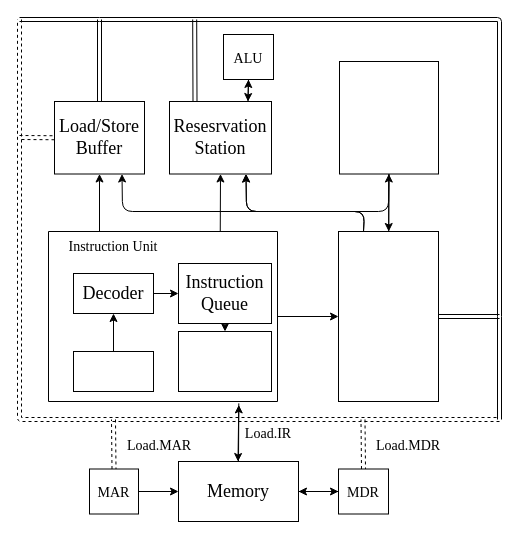
This 519x539 diagram has some shape labels left out. The centre of each missing label's shape, as x and y in pixels:
"Fetcher" belongs at [113,371].
"Issue Unit" belongs at [225,361].
"Register File" belongs at [388,117].
"Reorder Buffer" belongs at [388,316].
